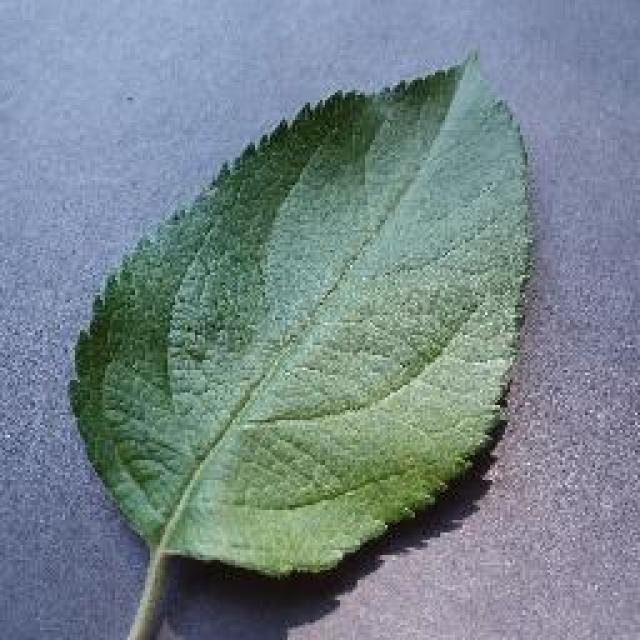apple healthy: (65, 45, 537, 637)
